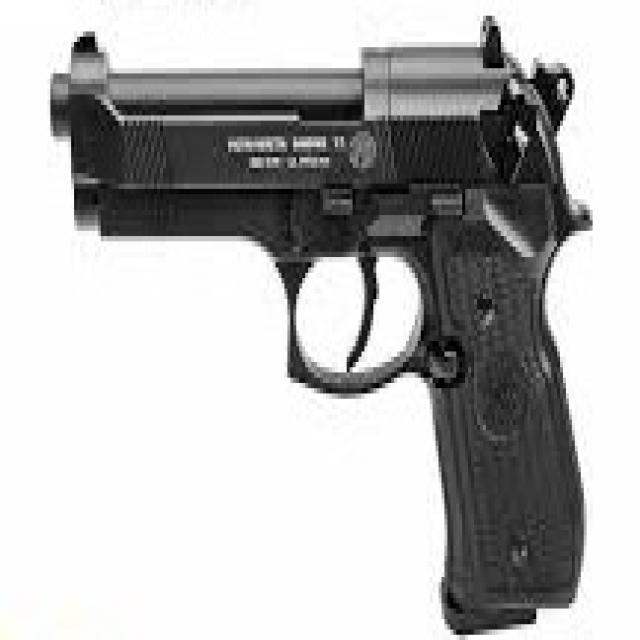pistol: (45, 2, 593, 640)
